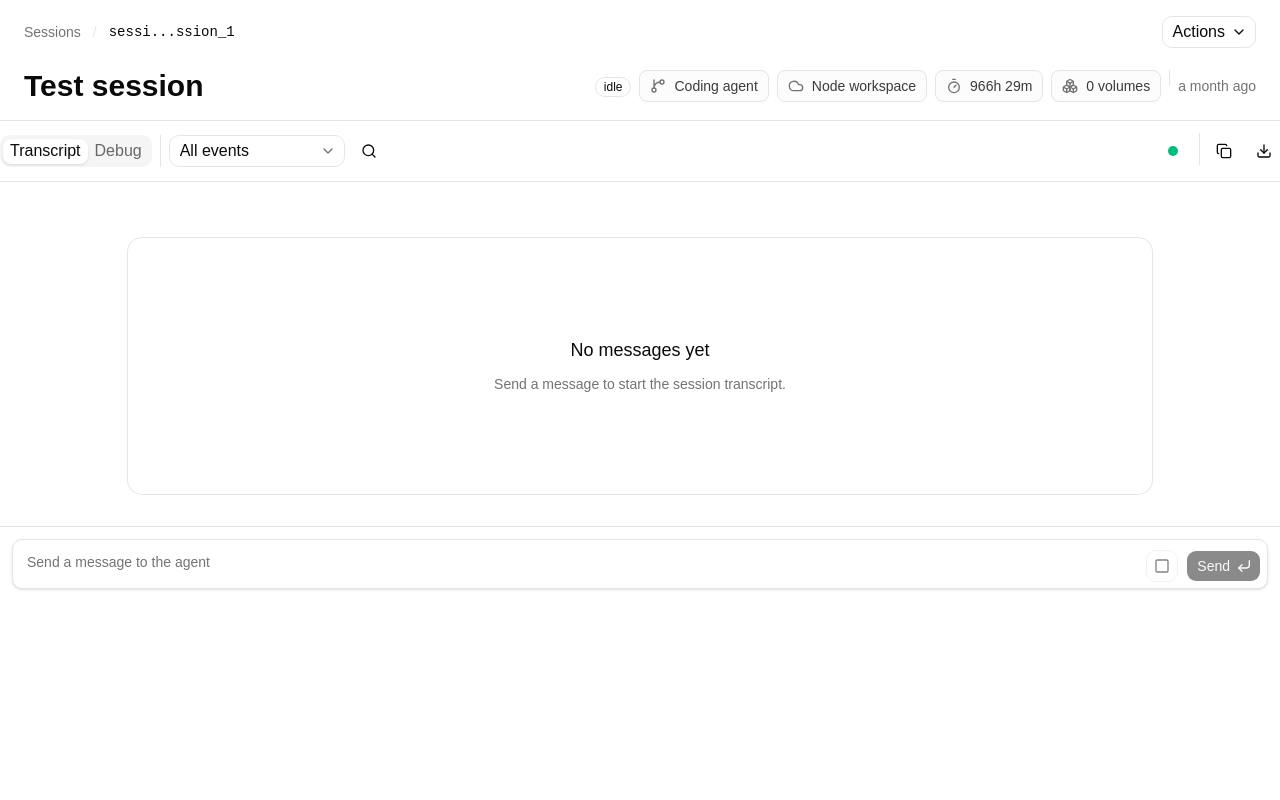
Test case: SessionDetailView › opens agent resource sheet on meta button click
Click the button with aria-label "Open agent details": [704, 86] box 640,70 -> 769,102
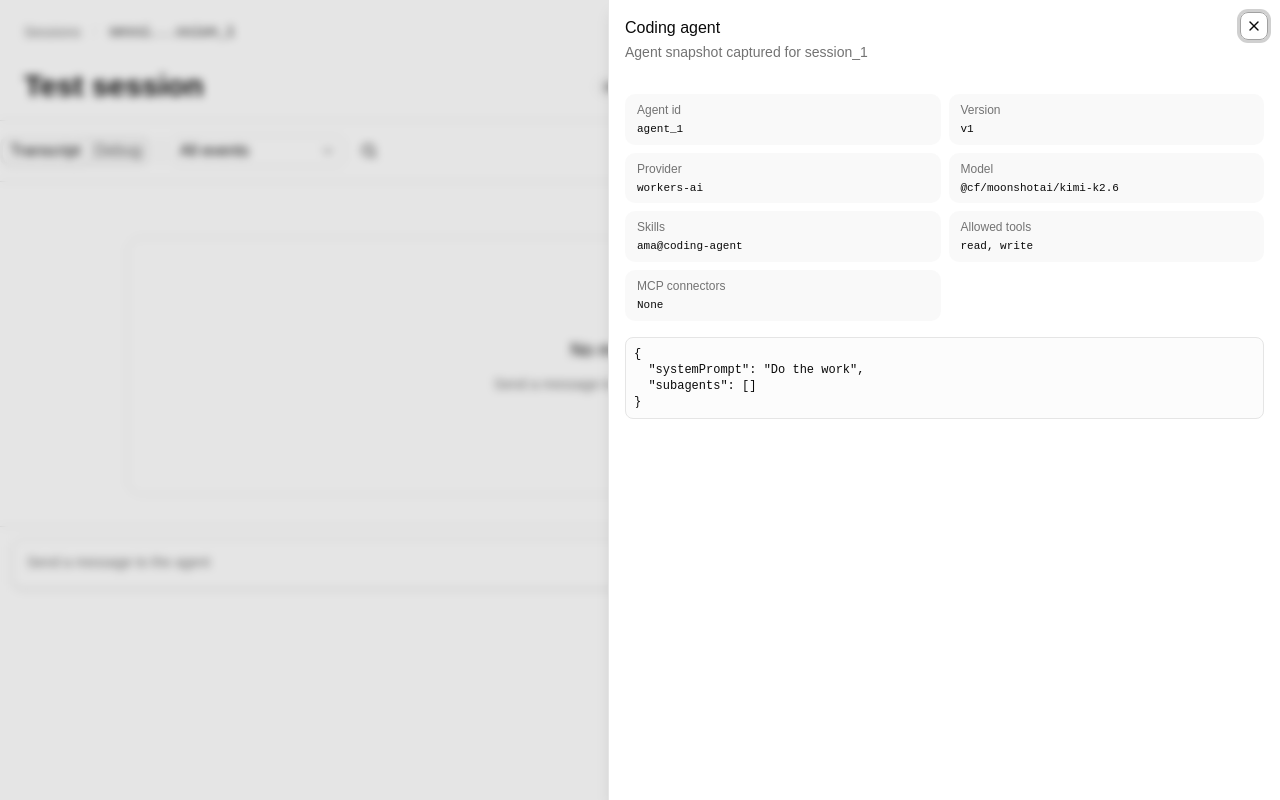
Result: the text "Agent snapshot captured for session_1" is shown at 625,44 -> 868,60
Result: the text "Agent id" is shown at 637,103 -> 681,117
